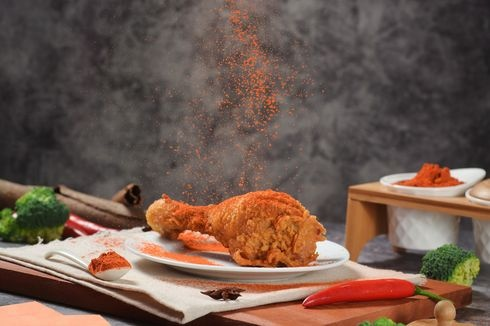ayam_goreng: (131, 188, 327, 268)
